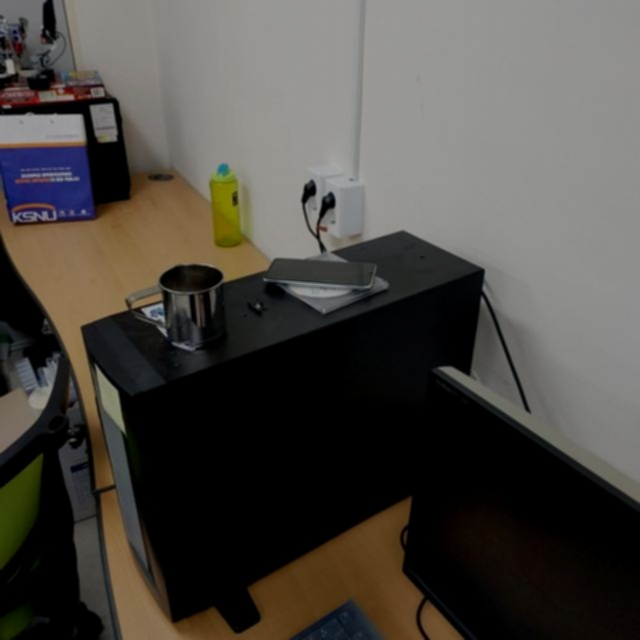cup: (127, 261, 229, 346)
phone: (264, 254, 378, 292)
